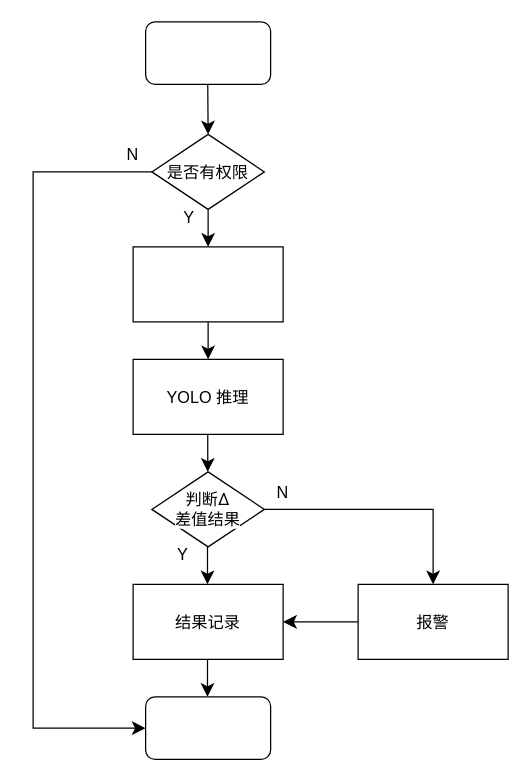
Some shapes in this 530 by 781 pixel diagram are drawn without their labels. The shapes that lost their labels are listed below. From the top down, each one's centre as x and y in pixels, then its label:
At point (207, 52): "开始".
At point (207, 284): "检修前后 图片上传".
At point (207, 727): "结束".
